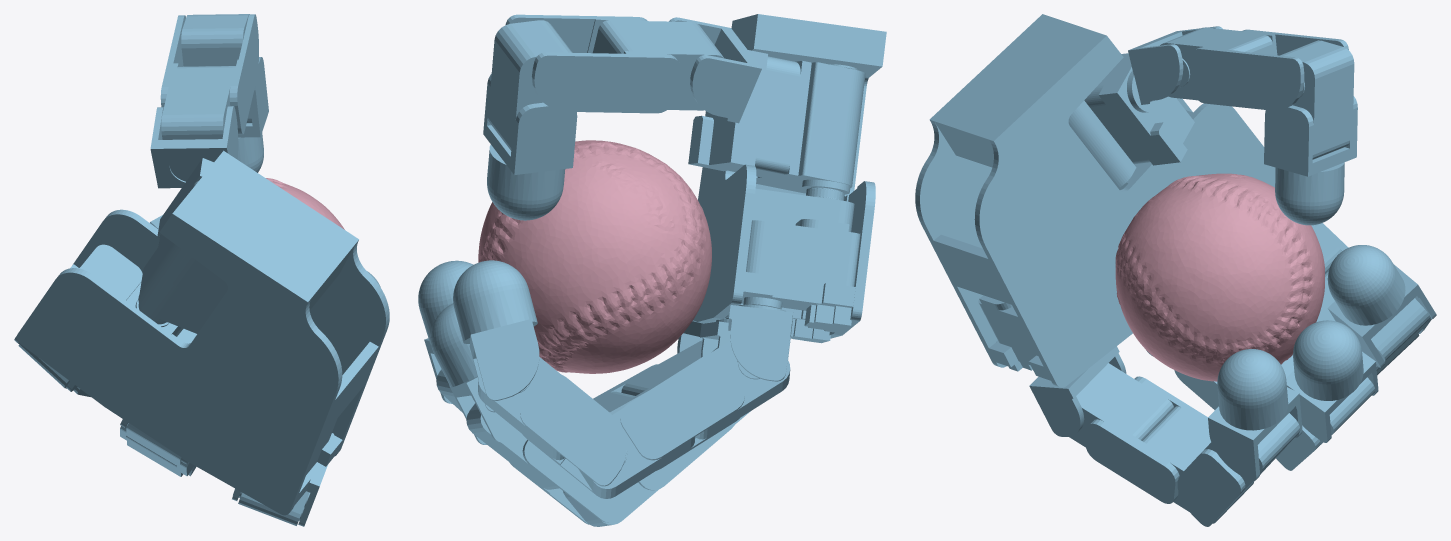
3 views of the same model, side by side, from view 1: azimuth 30°, elevation 25°; view 2: azimuth 150°, elevation 25°; view 3: azimuth 270°, elevation 25° (orthographic). The views are drawn at different scales.
Parts seen in each view (by area): view 1: world; view 2: world; view 3: world.
Part boxes in pixels (<box>): world: <box>14,14,389,526</box>; world: <box>418,14,886,526</box>; world: <box>915,14,1436,526</box>.
Bounding box in the file's own units: 0.1513 × 0.1761 × 0.1806.
